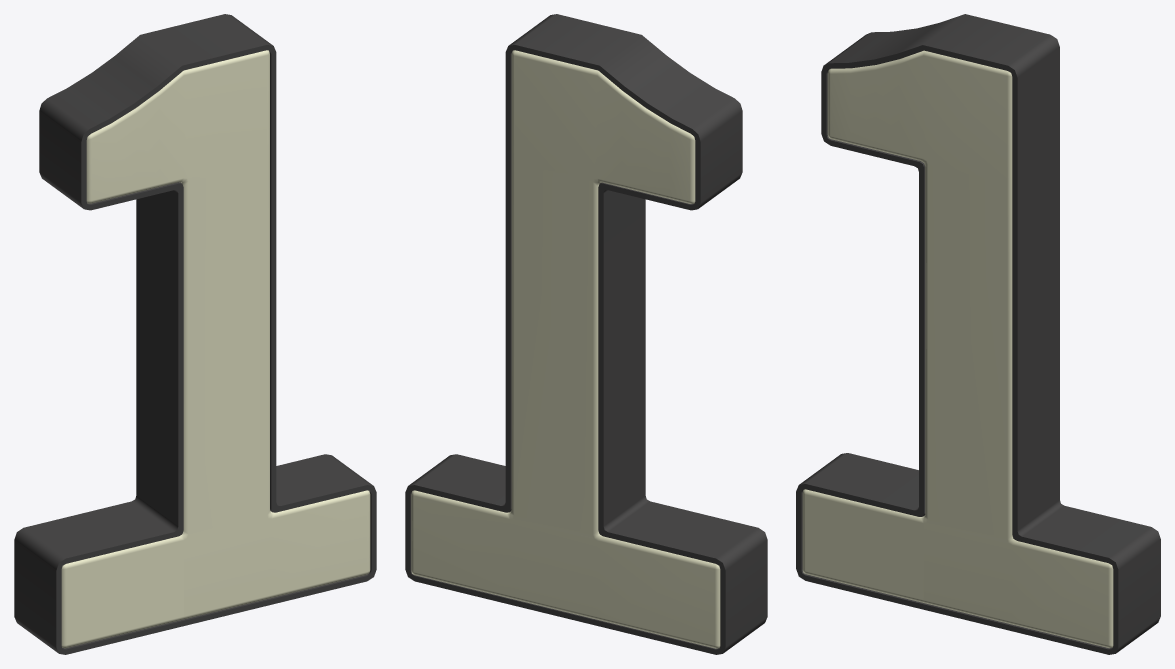
Rendered from Simple one.glb.
3 views of the same model, side by side, from view 1: azimuth 30°, elevation 25°; view 2: azimuth 150°, elevation 25°; view 3: azimuth 330°, elevation 25° (orthographic).
Visible parts, largest first — view 1: letters_simple_one_fill_ar, letters_simple_one_border_ar; view 2: letters_simple_one_fill_ar, letters_simple_one_border_ar; view 3: letters_simple_one_fill_ar, letters_simple_one_border_ar.
Part boxes in pixels (x1,y1,x2,y2): letters_simple_one_fill_ar: (61,50,370,648); letters_simple_one_border_ar: (14,14,376,654); letters_simple_one_fill_ar: (411,50,720,648); letters_simple_one_border_ar: (405,14,767,654); letters_simple_one_fill_ar: (802,50,1113,648); letters_simple_one_border_ar: (796,14,1160,654).
Bounding box in the file's own units: 0.1617 × 0.2707 × 0.0382.
